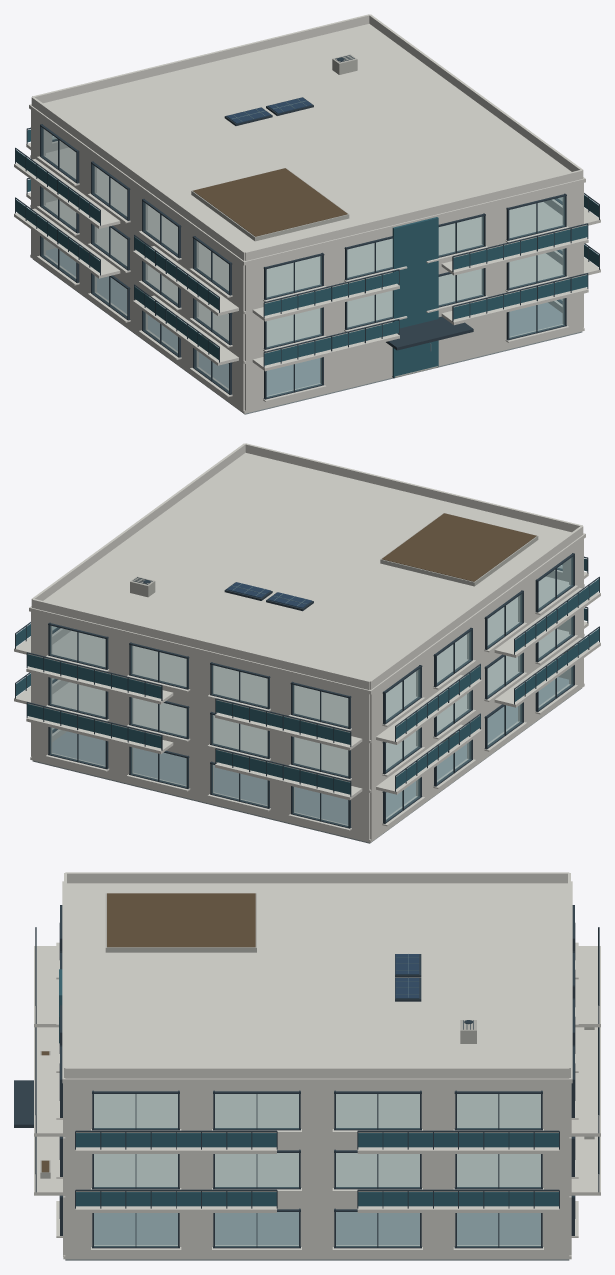
Rendered from Apartment_0.fbx.
3 views of the same model, one above another, from view 1: azimuth 30°, elevation 25°; view 2: azimuth 150°, elevation 25°; view 3: azimuth 270°, elevation 25° (orthographic). The views are drawn at different scales.
Parts seen in each view (by area): view 1: Apartment_0.009; view 2: Apartment_0.009; view 3: Apartment_0.009.
Part boxes in pixels (<box>): Apartment_0.009: <box>14,14,600,414</box>; Apartment_0.009: <box>14,443,600,843</box>; Apartment_0.009: <box>14,872,600,1260</box>.
Bounding box in the file's own units: 25 × 10.37 × 27.95.
